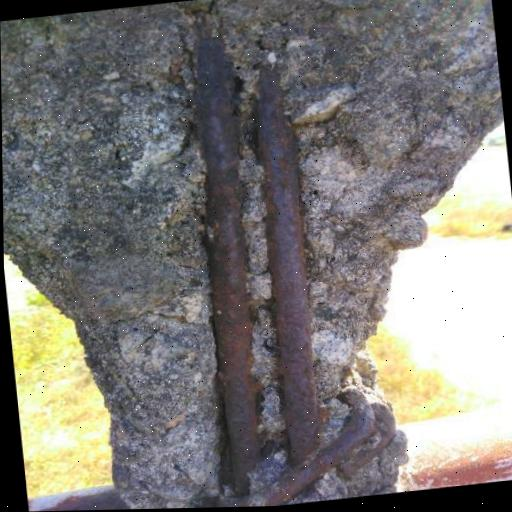exposed_rebar: (195, 37, 396, 507)
